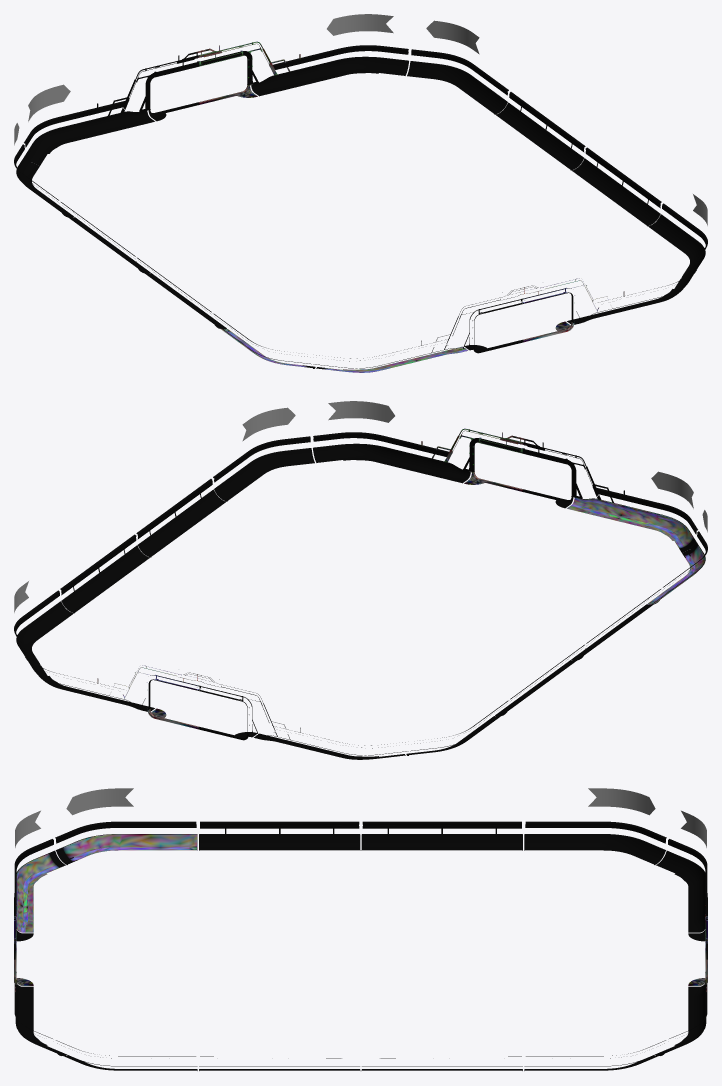
File: champions-field-boundary.glb
3 renders of one model, top to bottom at view 1: azimuth 30°, elevation 25°; view 2: azimuth 150°, elevation 25°; view 3: azimuth 270°, elevation 25°, orthographic. The views are drawn at different scales.
Visible parts, largest first — view 1: CS_FieldWalls_01, CS_FieldGoalOuter_01 (×2), CS_CornerArrows; view 2: CS_FieldWalls_01, CS_FieldGoalOuter_01 (×2), CS_CornerArrows; view 3: CS_FieldWalls_01, CS_CornerArrows, CS_FieldGoalOuter_01 (×2).
Part boxes in pixels (box(x1,y1,x2,y2)): CS_FieldWalls_01: box(14, 45, 707, 372); CS_FieldGoalOuter_01 (×2): box(97, 41, 624, 353); CS_CornerArrows: box(14, 14, 707, 225); CS_FieldWalls_01: box(14, 432, 707, 759); CS_FieldGoalOuter_01 (×2): box(97, 428, 624, 740); CS_CornerArrows: box(14, 401, 707, 612); CS_FieldWalls_01: box(14, 821, 707, 1070); CS_CornerArrows: box(15, 788, 706, 847); CS_FieldGoalOuter_01 (×2): box(14, 879, 707, 991).
Size of the model in its own units: 82.47 by 9.52 by 103.
